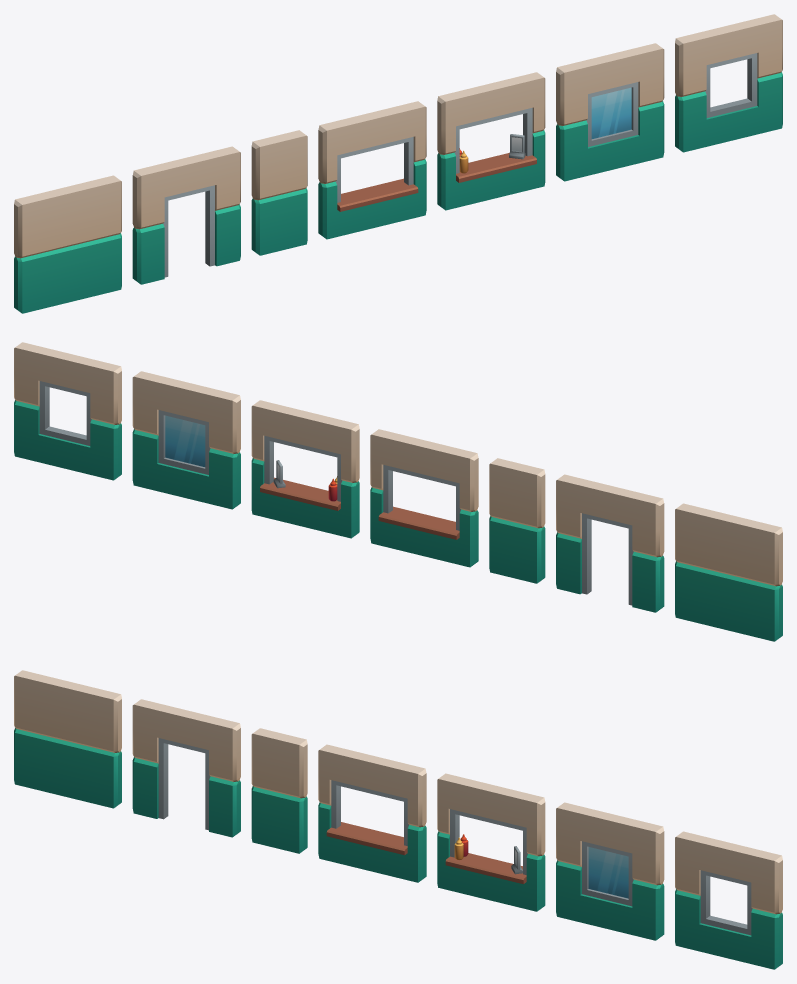
File: Modular Walls.glb
3 renders of one model, top to bottom at view 1: azimuth 30°, elevation 25°; view 2: azimuth 150°, elevation 25°; view 3: azimuth 330°, elevation 25°, orthographic.
Visible parts, largest first — view 1: wall_window_closed, wall, wall_window_open, wall_orderwindow_decorated, wall_orderwindow, wall_doorway, wall_half; view 2: wall_window_closed, wall, wall_window_open, wall_orderwindow_decorated, wall_orderwindow, wall_doorway, wall_half; view 3: wall_window_closed, wall, wall_window_open, wall_orderwindow_decorated, wall_orderwindow, wall_doorway, wall_half.
Part boxes in pixels (x1,y1,x2,y2): wall_window_closed: (556, 43, 664, 181); wall: (14, 175, 121, 313); wall_window_open: (675, 14, 782, 152); wall_orderwindow_decorated: (437, 72, 545, 210); wall_orderwindow: (318, 101, 426, 239); wall_doorway: (132, 146, 240, 284); wall_half: (251, 130, 307, 255); wall_window_closed: (132, 371, 240, 509); wall: (675, 503, 782, 641); wall_window_open: (14, 342, 121, 480); wall_orderwindow_decorated: (251, 400, 359, 538); wall_orderwindow: (370, 429, 478, 567); wall_doorway: (556, 474, 664, 612); wall_half: (489, 458, 545, 583); wall_window_closed: (556, 802, 664, 940); wall: (14, 670, 121, 808); wall_window_open: (675, 831, 782, 969); wall_orderwindow_decorated: (437, 773, 545, 911); wall_orderwindow: (318, 744, 426, 882); wall_doorway: (132, 699, 240, 837); wall_half: (251, 728, 307, 853).
Size of the model in its own units: 29.42 by 4 by 0.9.
Materials: 1 (1 with a texture image).
